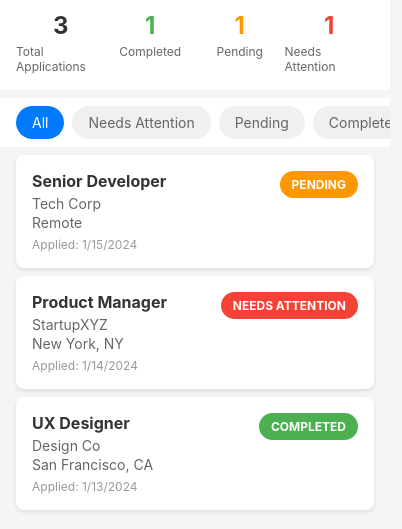
ApplicationsScreen › should filter applications by status
The image size is (402, 529).
Check: the text "Senior Developer" is shown, box [32,171,166,191]
Note: Click on "Needs Attention" filter
Click the text "Needs Attention" next to "All" at point(142, 122), box [88,114,195,131]
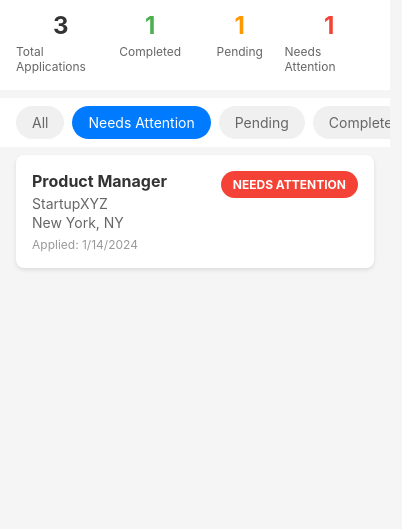
Check: the text "Product Manager" is shown, box [32,171,167,191]
Check: the text "Senior Developer" is gone
Check: the text "UX Designer" is gone
